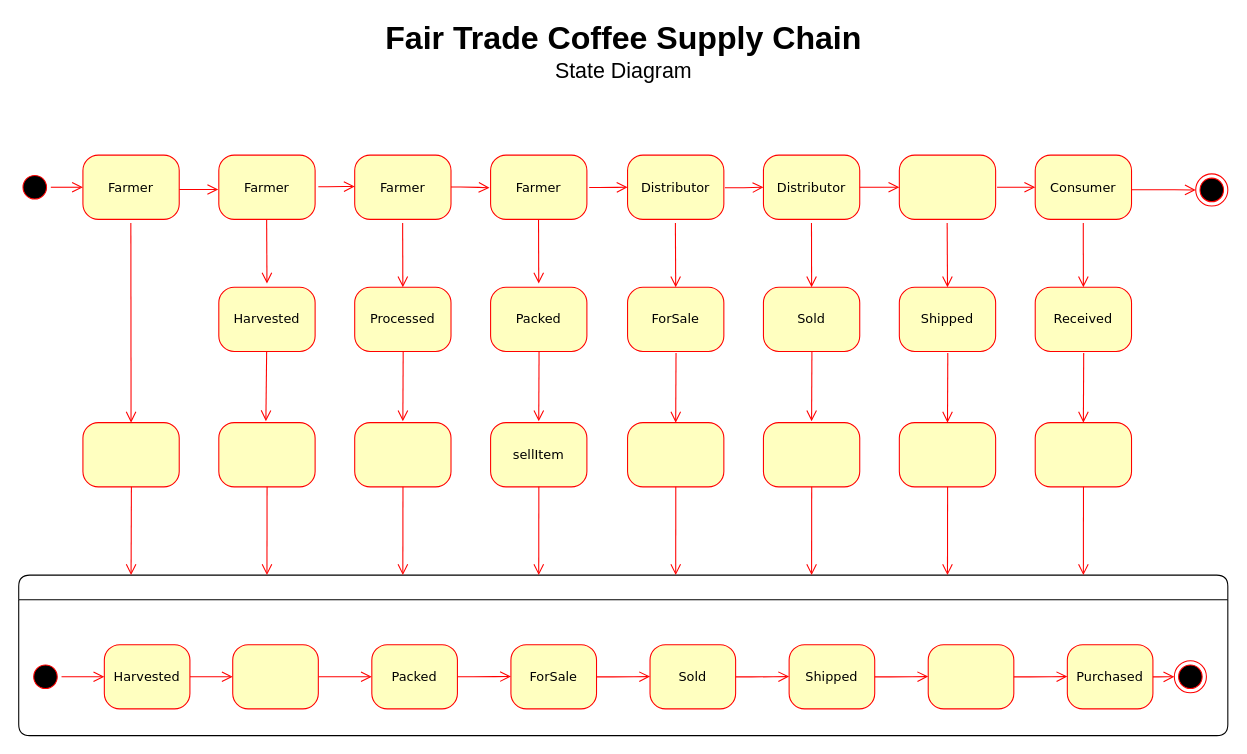
This 1247x754 diagram has some shape labels left out. The box of each missing label's shape, as (x1, y1, x2, y2) in pixels:
buyItem: (626, 422, 724, 487)
Container: (18, 574, 1228, 736)
harvestItem: (82, 422, 179, 487)
packItem: (354, 422, 451, 487)
processItem: (218, 422, 315, 487)
Processsed: (232, 644, 318, 709)
purchaseItem: (1034, 422, 1132, 487)
receiveItem: (898, 422, 996, 487)
Retailer: (898, 154, 996, 219)
Reveived: (927, 644, 1014, 709)
shipItem: (762, 422, 860, 487)
